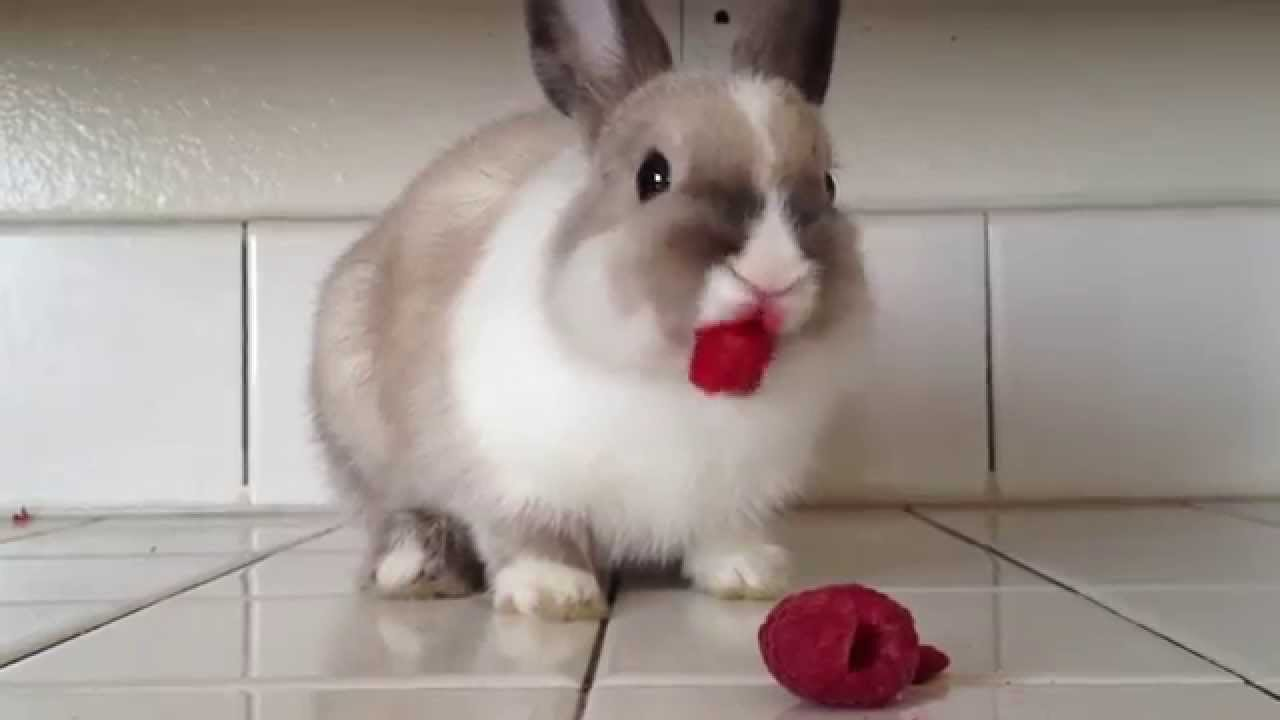bunny: (292, 12, 903, 618)
